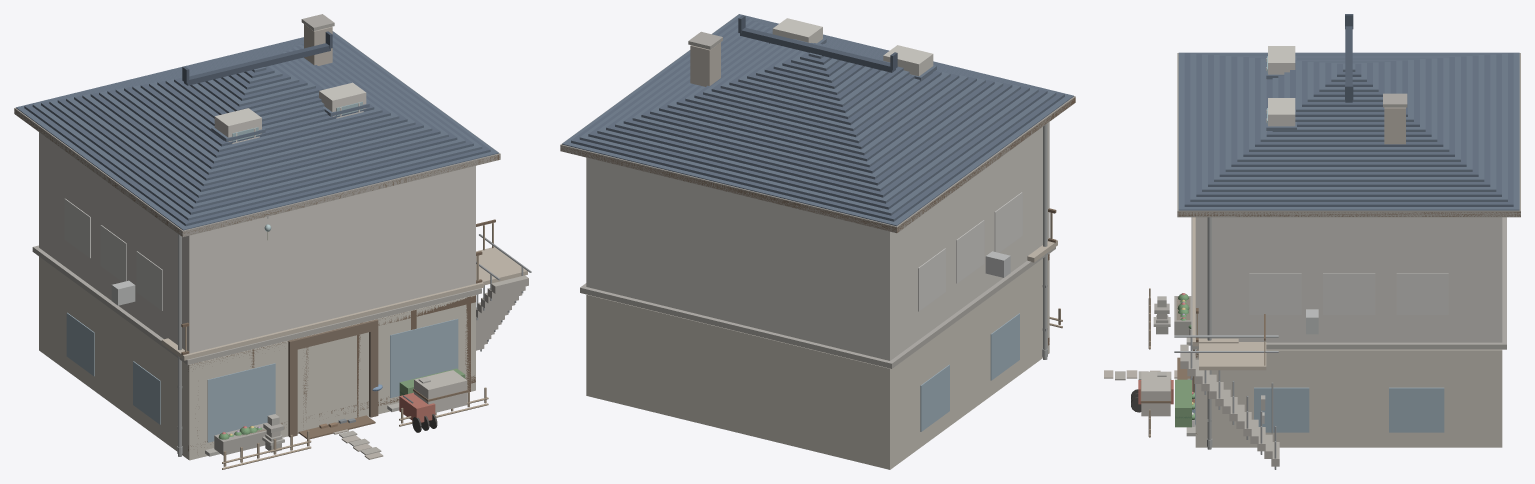
File: residence_05.glb
3 renders of one model, left to right at view 1: azimuth 30°, elevation 25°; view 2: azimuth 150°, elevation 25°; view 3: azimuth 270°, elevation 25°, orthographic. The views are drawn at different scales.
Parts seen in each view (by area): view 1: geometry_0; view 2: geometry_0; view 3: geometry_0.
Part boxes in pixels (x1,y1,x2,y2): geometry_0: (14,14,531,469); geometry_0: (560,14,1075,469); geometry_0: (1104,14,1520,469).
Size of the model in its own units: 13.72 by 11.73 by 13.59.
